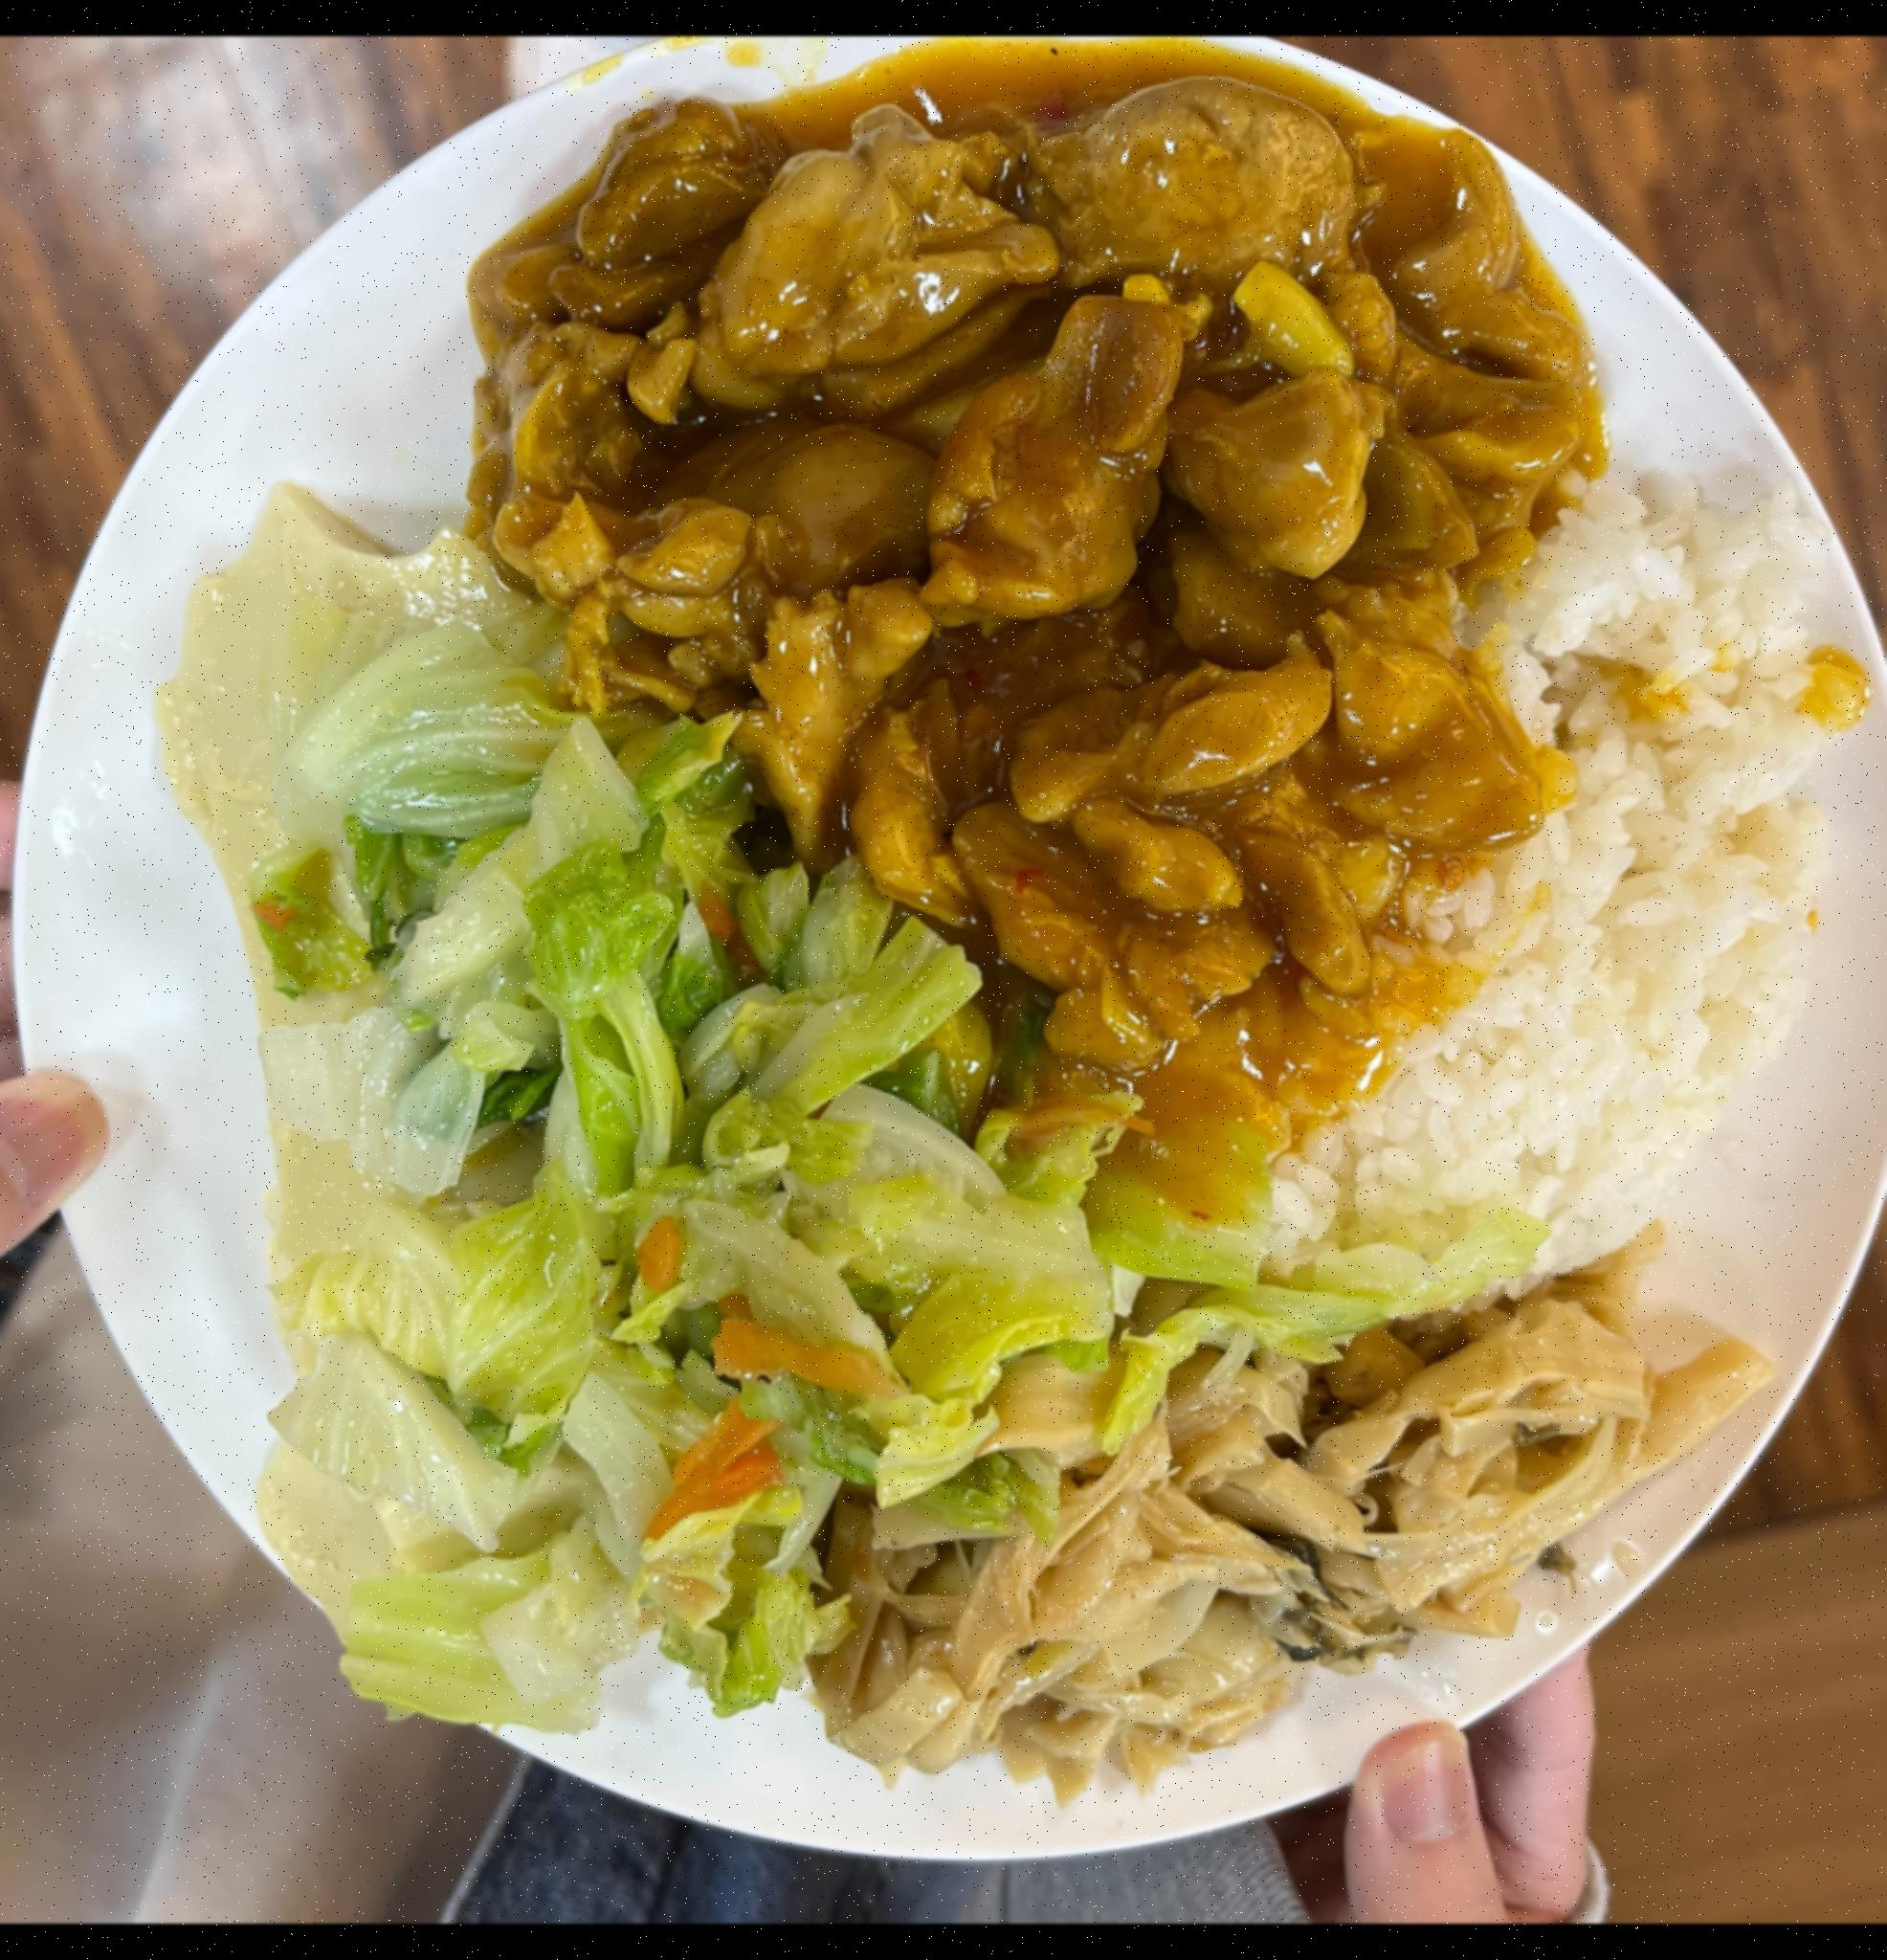big fried chicken leg: (0, 56, 1887, 1886)
big herbal chicken leg: (1197, 457, 1878, 1293)
braised fish fillet: (163, 665, 1071, 1673), (807, 1255, 1715, 1816)
braised pork: (499, 63, 1591, 1188)
